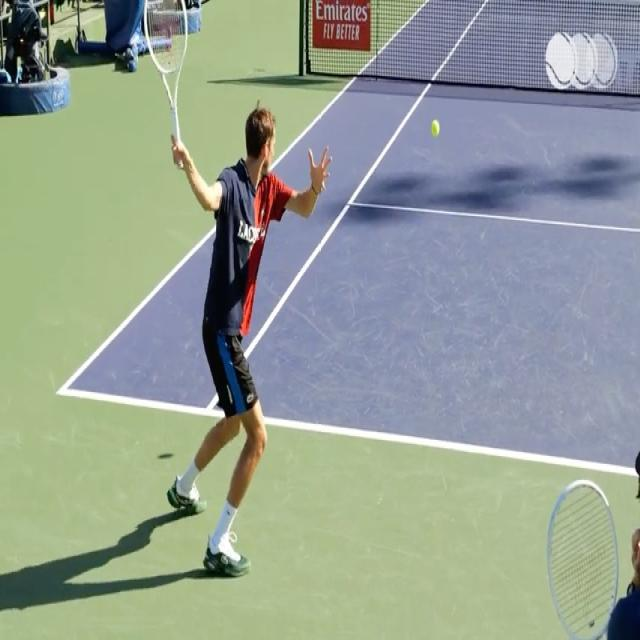forehand-ready: (145, 9, 334, 574)
